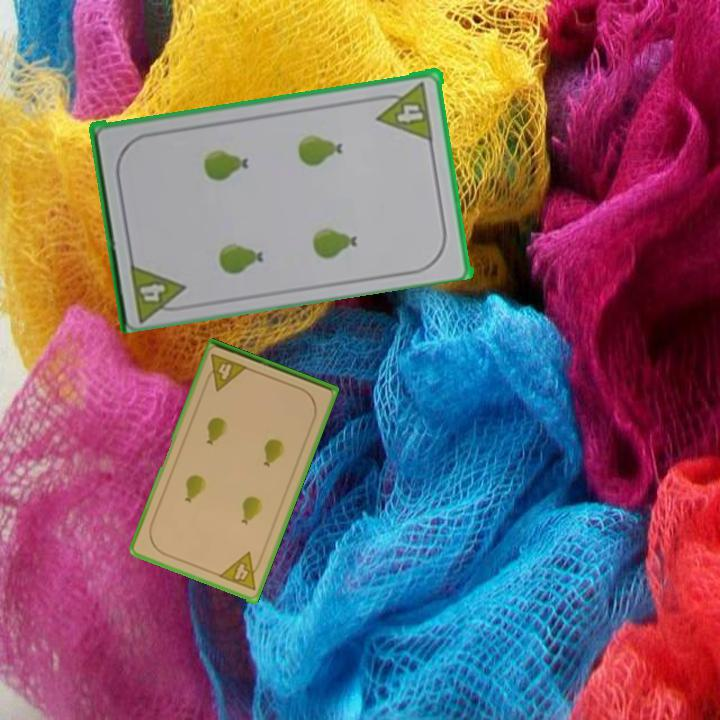4p: (126, 257, 192, 322), (372, 77, 436, 143), (215, 549, 266, 594), (201, 350, 251, 394)
